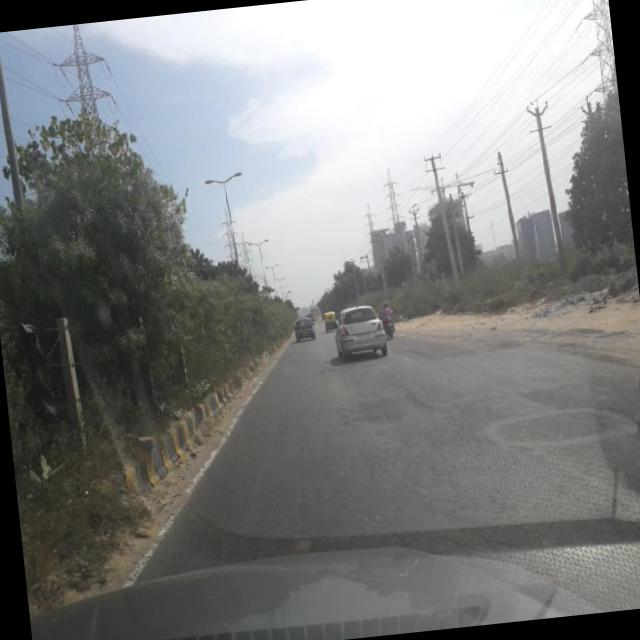crack: (156, 341, 640, 564)
